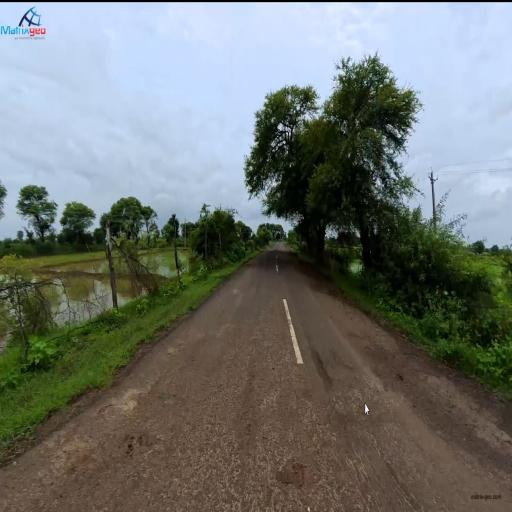ravelling: (160, 357, 366, 505)
